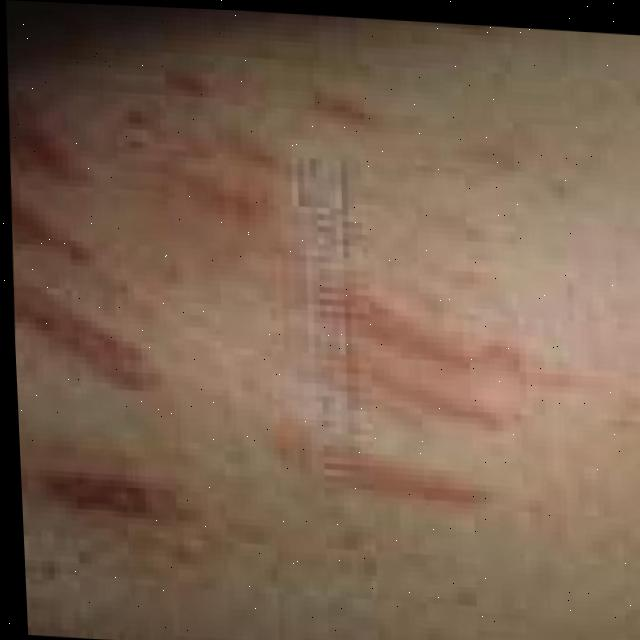Melasma: (6, 127, 491, 541)
